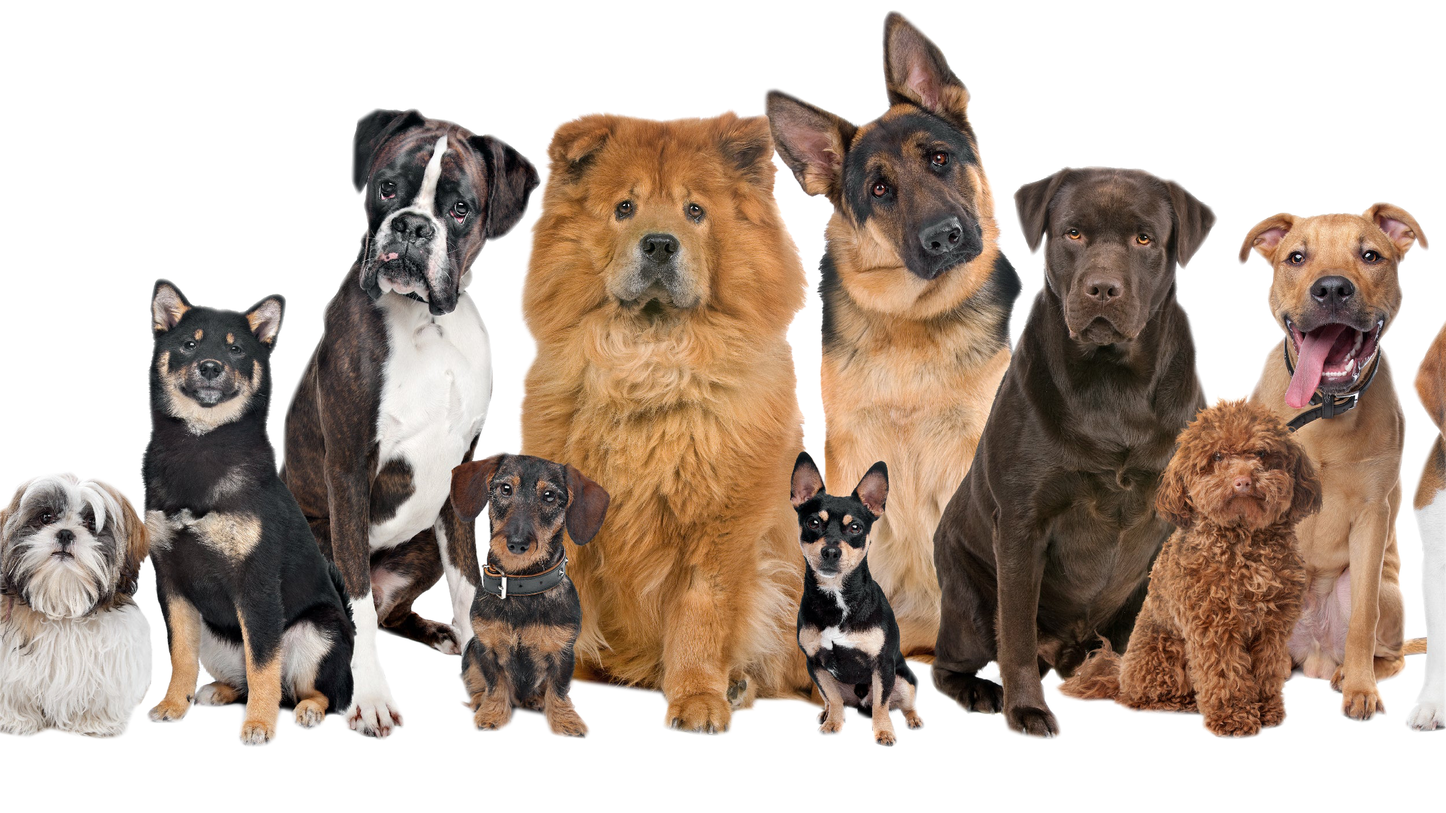Dog: (752, 12, 1031, 690), (534, 109, 818, 741), (263, 101, 519, 672), (987, 143, 1216, 703)
